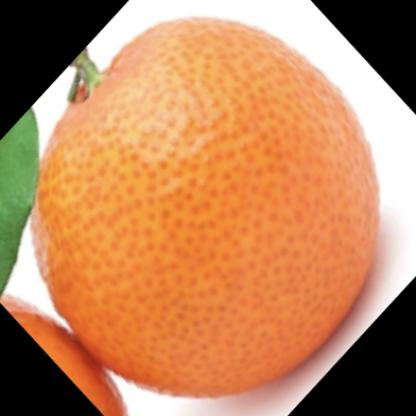fresh: (30, 18, 380, 400)
